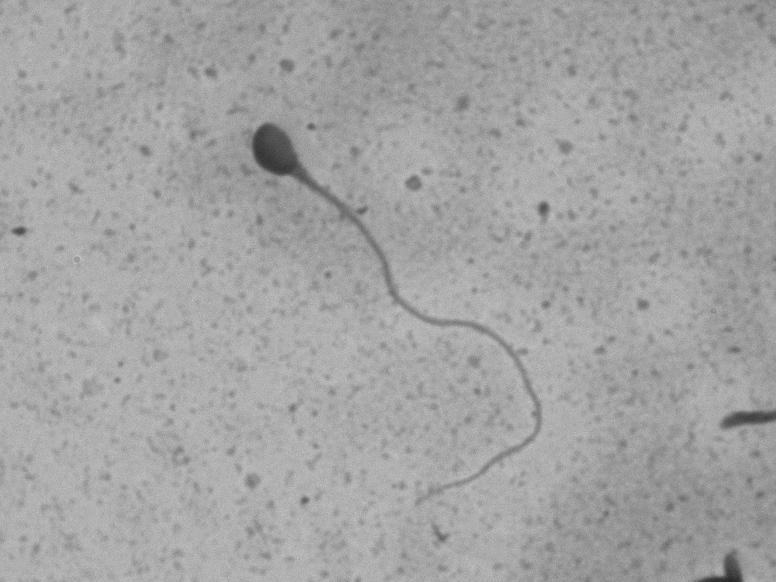Abnormal: (220, 102, 584, 516)
